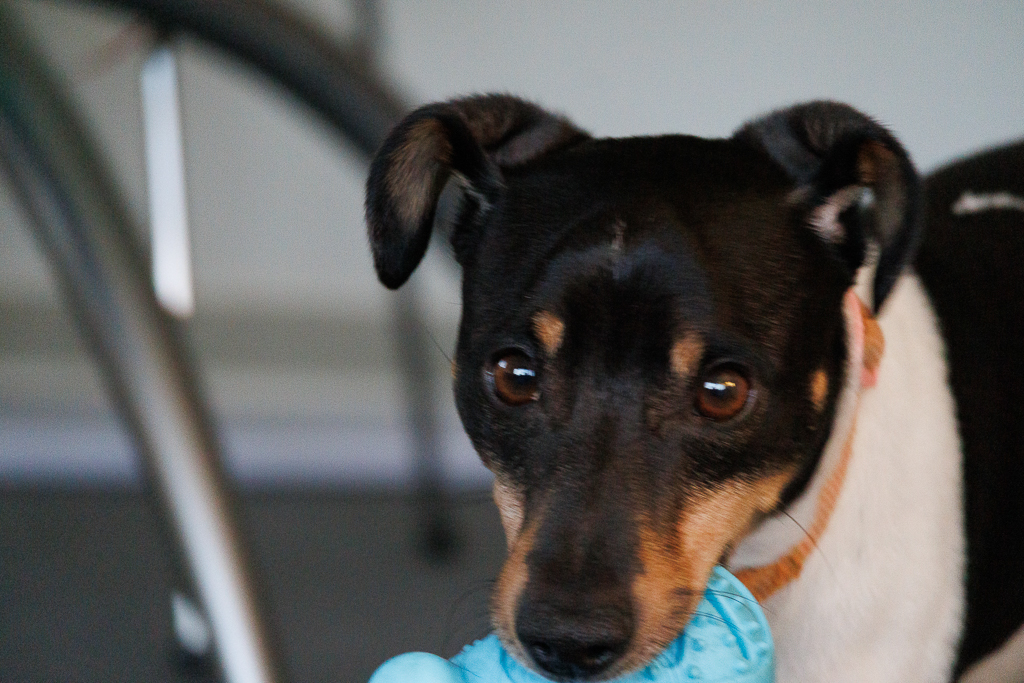Dog: (347, 70, 1023, 682)
